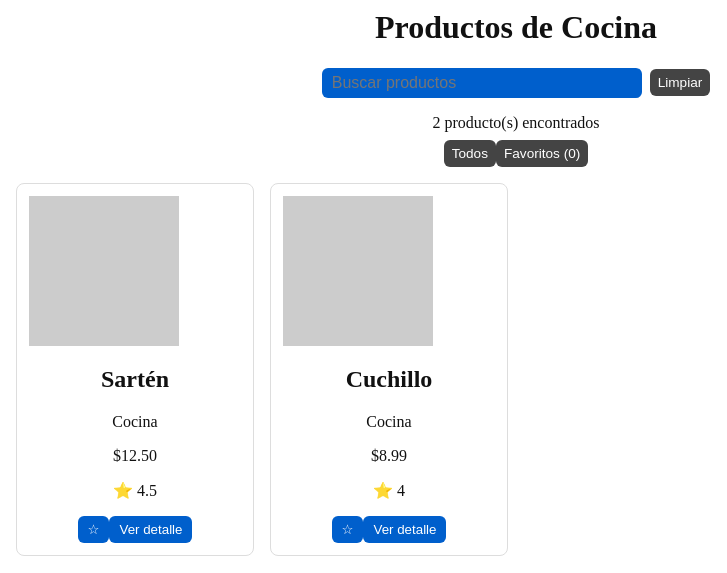
Test case: App component › busca un elemento y muestra solo los productos coincidentes
This screenshot has width=727, height=573.
Expected: the heading "Cuchillo" is shown, x1=346 y1=366 x2=432 y2=392
Type "Cuchillo" into the field with placeholder "Buscar productos" at point(482, 83), box x1=322 y1=68 x2=642 y2=98
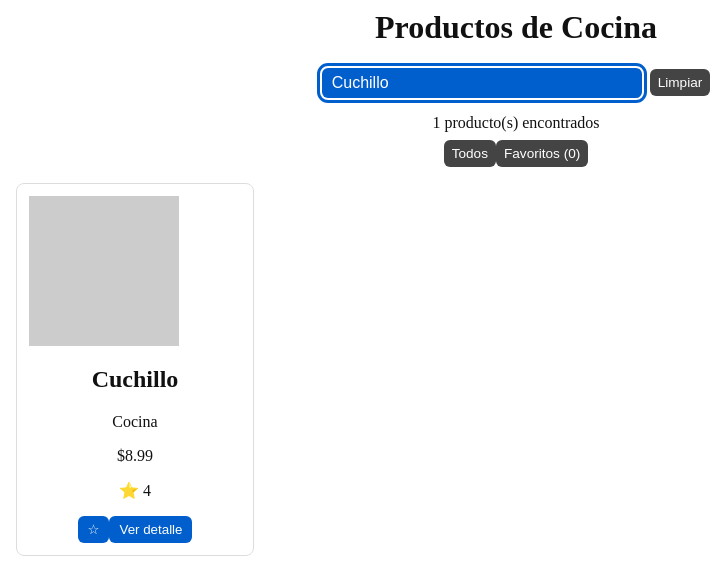
Expected: the heading "Cuchillo" is shown, x1=92 y1=366 x2=178 y2=392
Expected: the heading "Sartén" is gone
